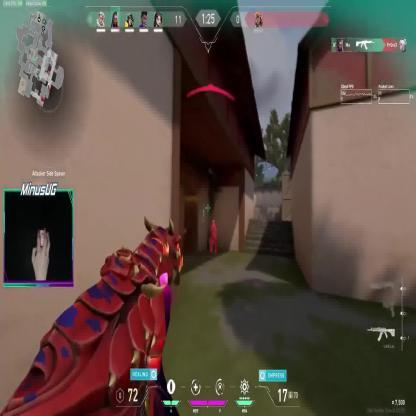enemy: (209, 219, 217, 254)
enemy_head: (212, 218, 216, 227)
